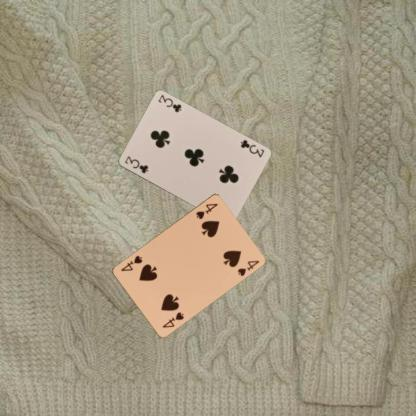3c: (237, 137, 265, 159), (122, 154, 149, 175)
4s: (160, 309, 185, 329), (194, 201, 219, 220)
